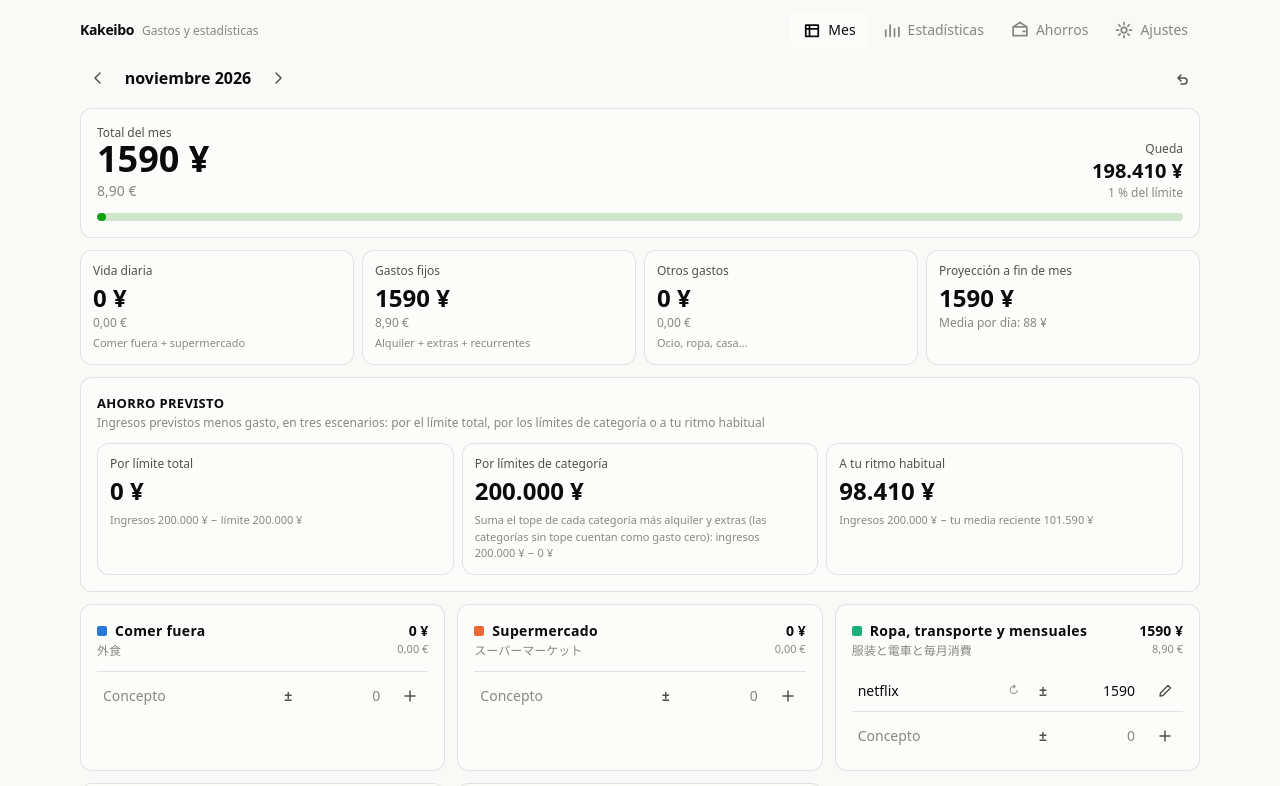
Test: la aplicacion › la meta en modo "ahorrar" contada desde hoy no habla de progreso
What coordinates should you click on to do the following:
click the button "Ahorros"
I would click on:
 (1049, 30)
Its box is 998,12 -> 1100,48.
(page scrolled)
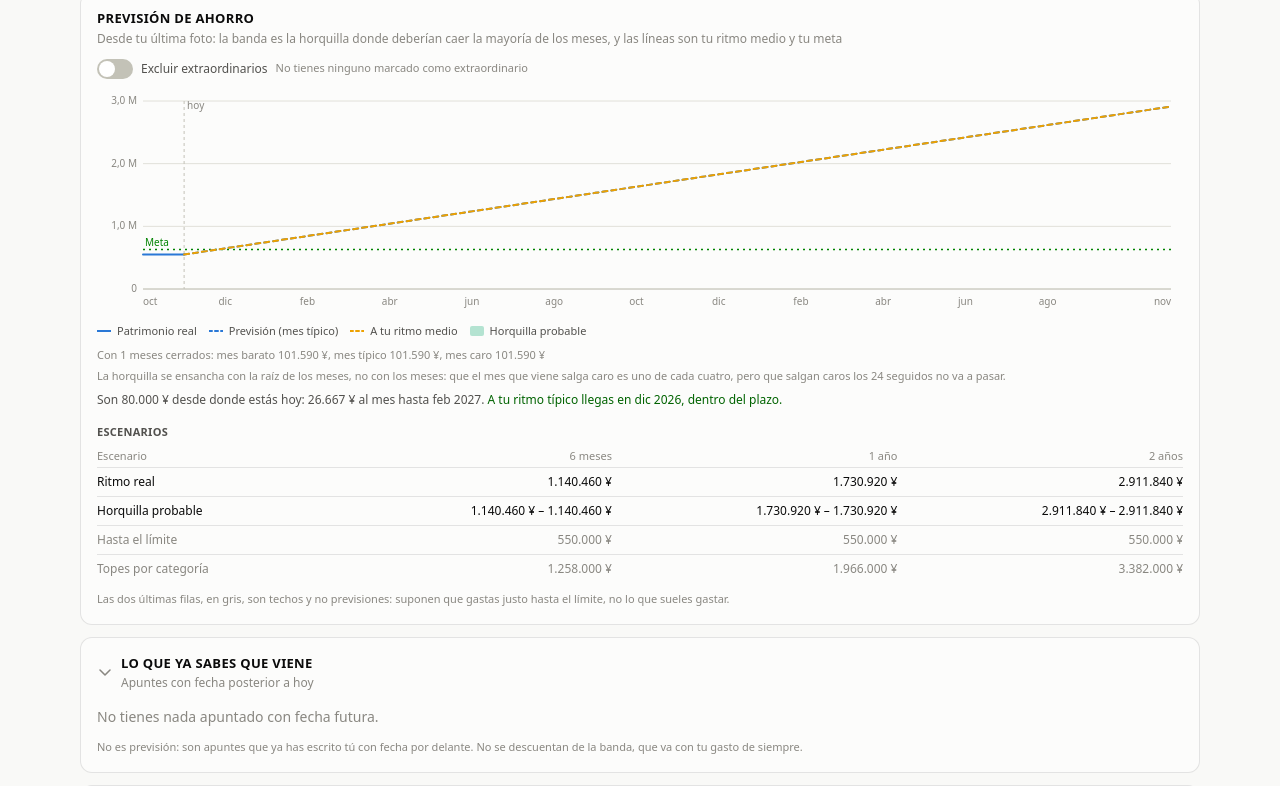
expect the text "desde donde estás hoy" is shown: met, box 97,391 -> 484,408
